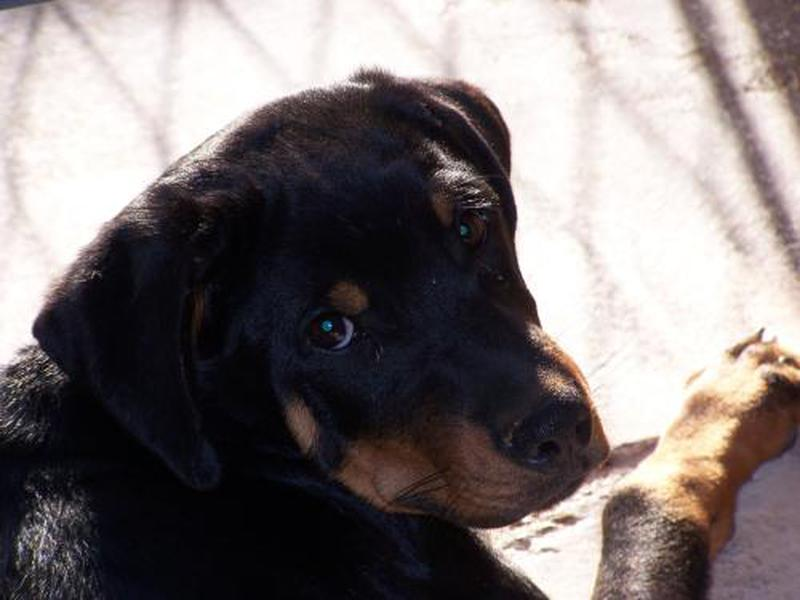dog: (22, 81, 614, 588)
